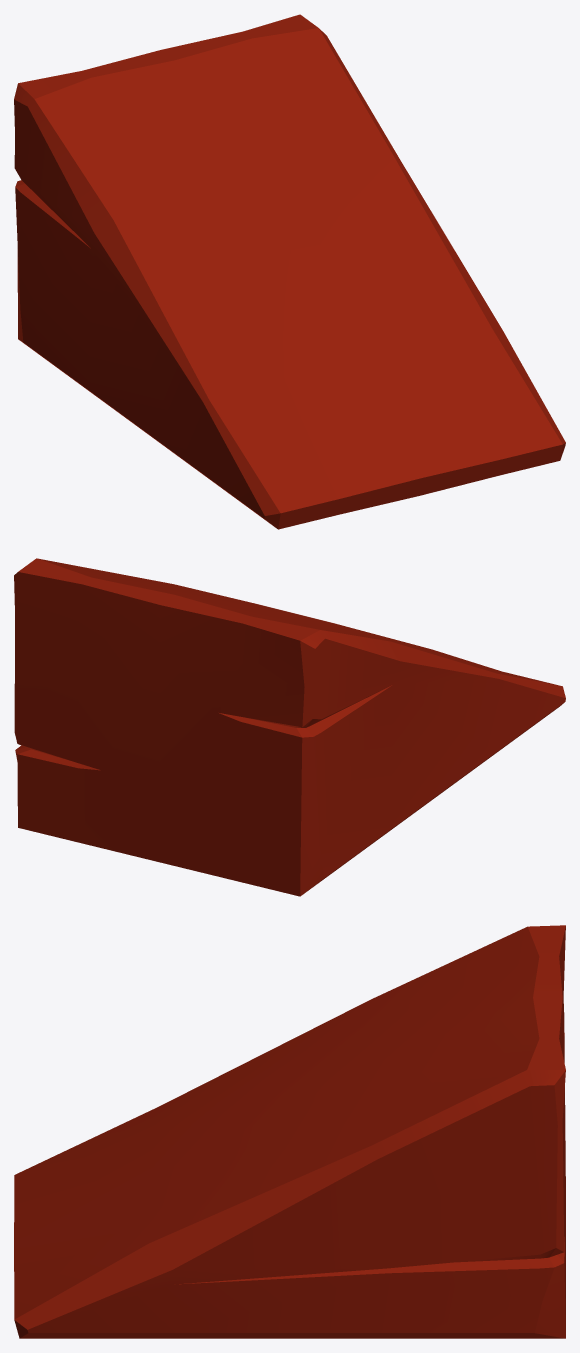
Rendered from SM_Ramp.fbx.
The picture shows the model from 3 angles, top to bottom: view 1: azimuth 30°, elevation 25°; view 2: azimuth 150°, elevation 25°; view 3: azimuth 270°, elevation 25°; orthographic projection. The views are drawn at different scales.
Parts seen in each view (by area): view 1: SM_Ramp; view 2: SM_Ramp; view 3: SM_Ramp.
Boxes of the visible parts, bbox=[...] form: SM_Ramp: bbox=[14, 14, 565, 529]; SM_Ramp: bbox=[14, 558, 565, 896]; SM_Ramp: bbox=[14, 925, 565, 1338].
Size of the model in its own units: 162 by 128 by 238.
